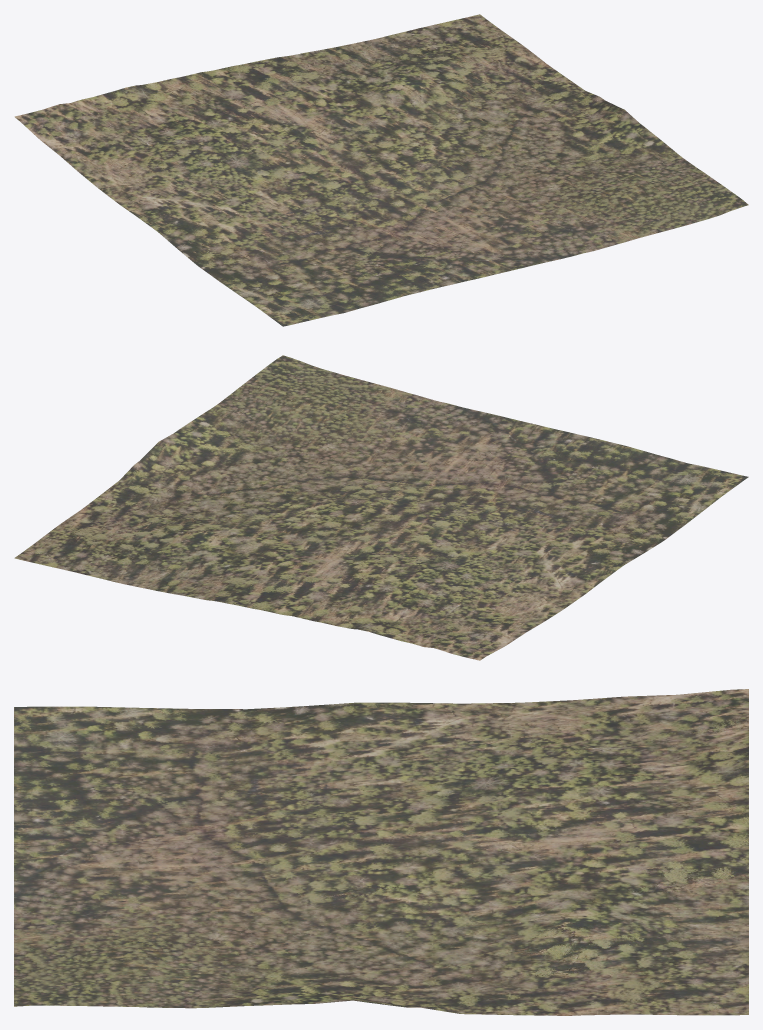
Rendered from CM_Terrain_24493121_6813855.fbx.
The picture shows the model from 3 angles, top to bottom: view 1: azimuth 30°, elevation 25°; view 2: azimuth 150°, elevation 25°; view 3: azimuth 270°, elevation 25°; orthographic projection. The views are drawn at different scales.
Visible parts, largest first — view 1: CM_Terrain_24493121_6813855_LOD0; view 2: CM_Terrain_24493121_6813855_LOD0; view 3: CM_Terrain_24493121_6813855_LOD0.
Boxes of the visible parts, left/top/right/bottom form: CM_Terrain_24493121_6813855_LOD0: left=14, top=14, right=748, bottom=326; CM_Terrain_24493121_6813855_LOD0: left=14, top=355, right=748, bottom=660; CM_Terrain_24493121_6813855_LOD0: left=14, top=689, right=748, bottom=1015.
Size of what is drawn, in the model's own units: 205 by 7.05 by 205.
